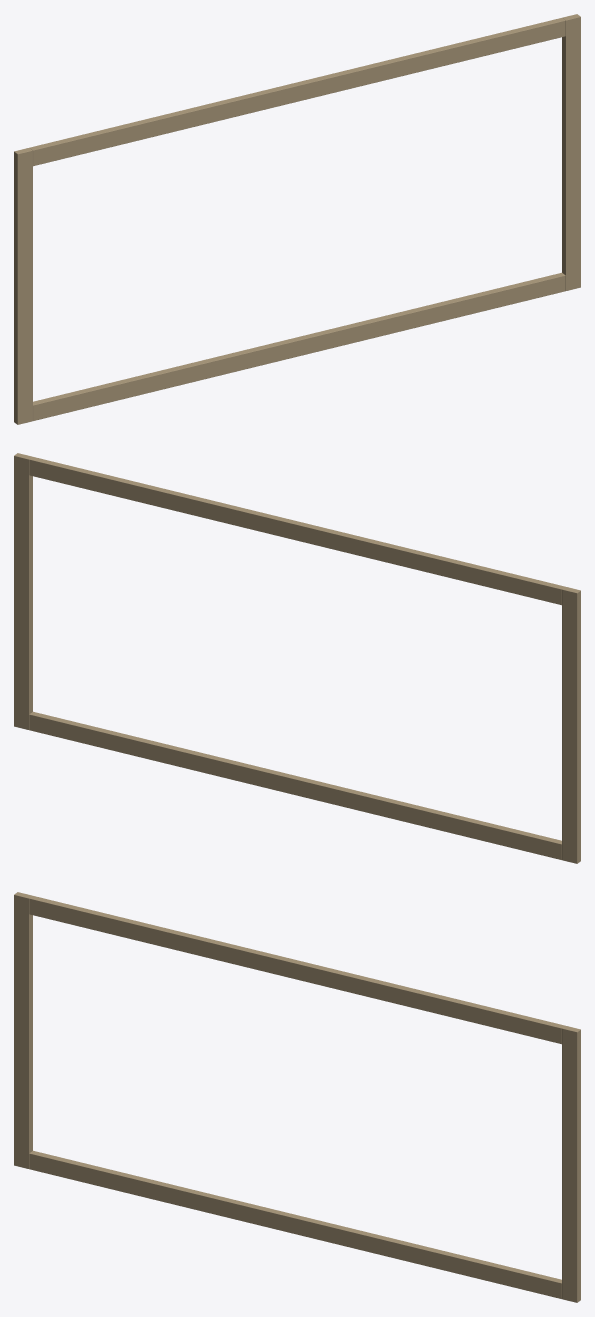
File: MH_Window_Trim_2p8m.fbx
3 renders of one model, top to bottom at view 1: azimuth 30°, elevation 25°; view 2: azimuth 150°, elevation 25°; view 3: azimuth 330°, elevation 25°, orthographic.
Parts seen in each view (by area): view 1: Body; view 2: Body; view 3: Body.
Boxes of the visible parts, x1,y1,x2,y2 form: Body: [14, 14, 580, 424]; Body: [14, 453, 580, 863]; Body: [14, 892, 580, 1302].
Size of the model in its own units: 2.96 by 1.36 by 0.035.
